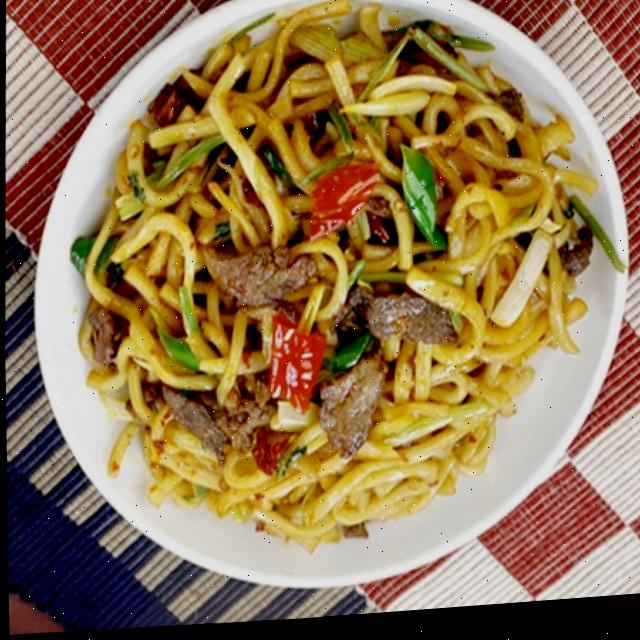面条主食: (41, 0, 618, 604)
